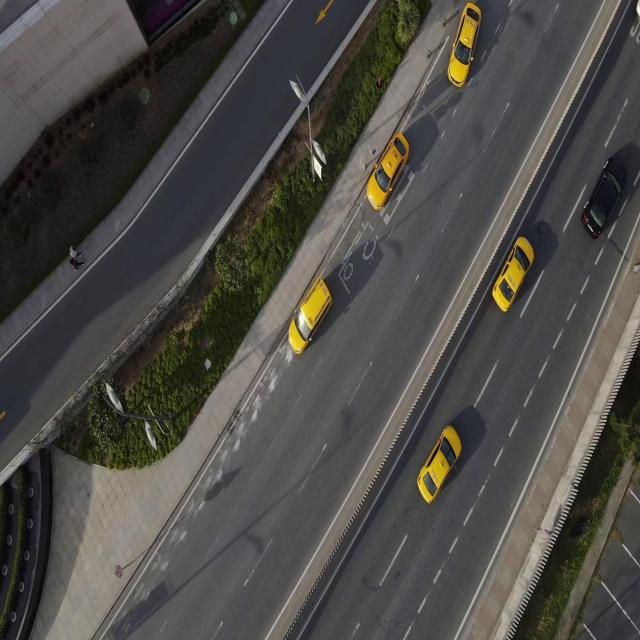p3rson: (70, 258, 84, 272), (68, 245, 83, 258)
